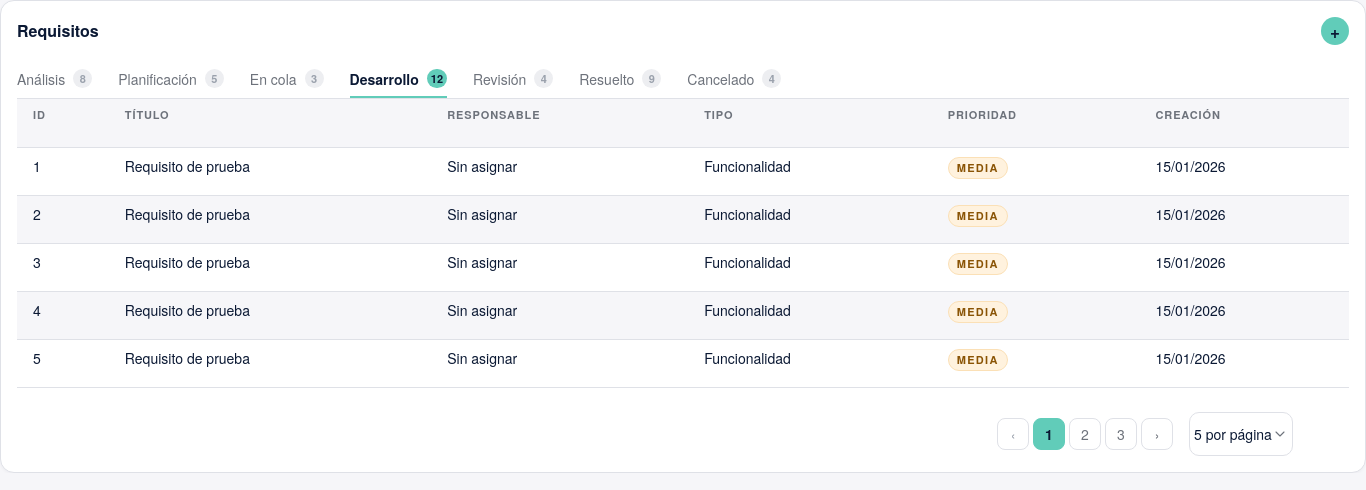
Test: ProjectRequirementsSection — carga inicial y paginación server-side › TS-24: conserva <nav aria-label="Paginación"> con aria-current en la página activa
This screenshot has width=1366, height=490.
Click the button named "Página 2".
click(1085, 434)  # box [1069, 418, 1101, 450]
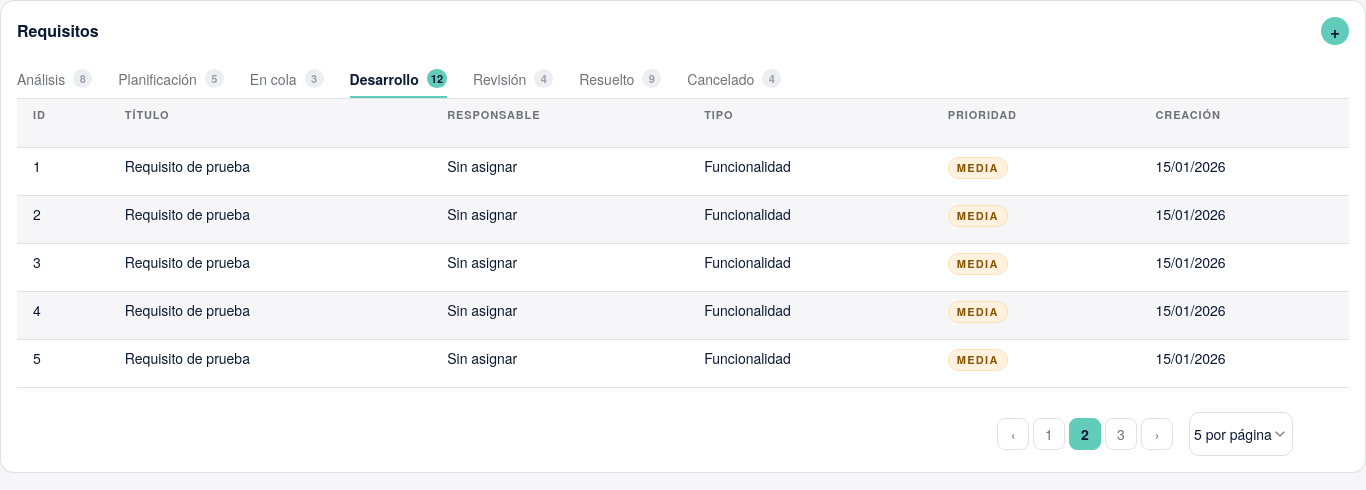
Expected: the button named "Página anterior" is shown, [997, 418, 1029, 450]
Result: the button named "Página 2" is disabled at [1069, 418, 1101, 450]
